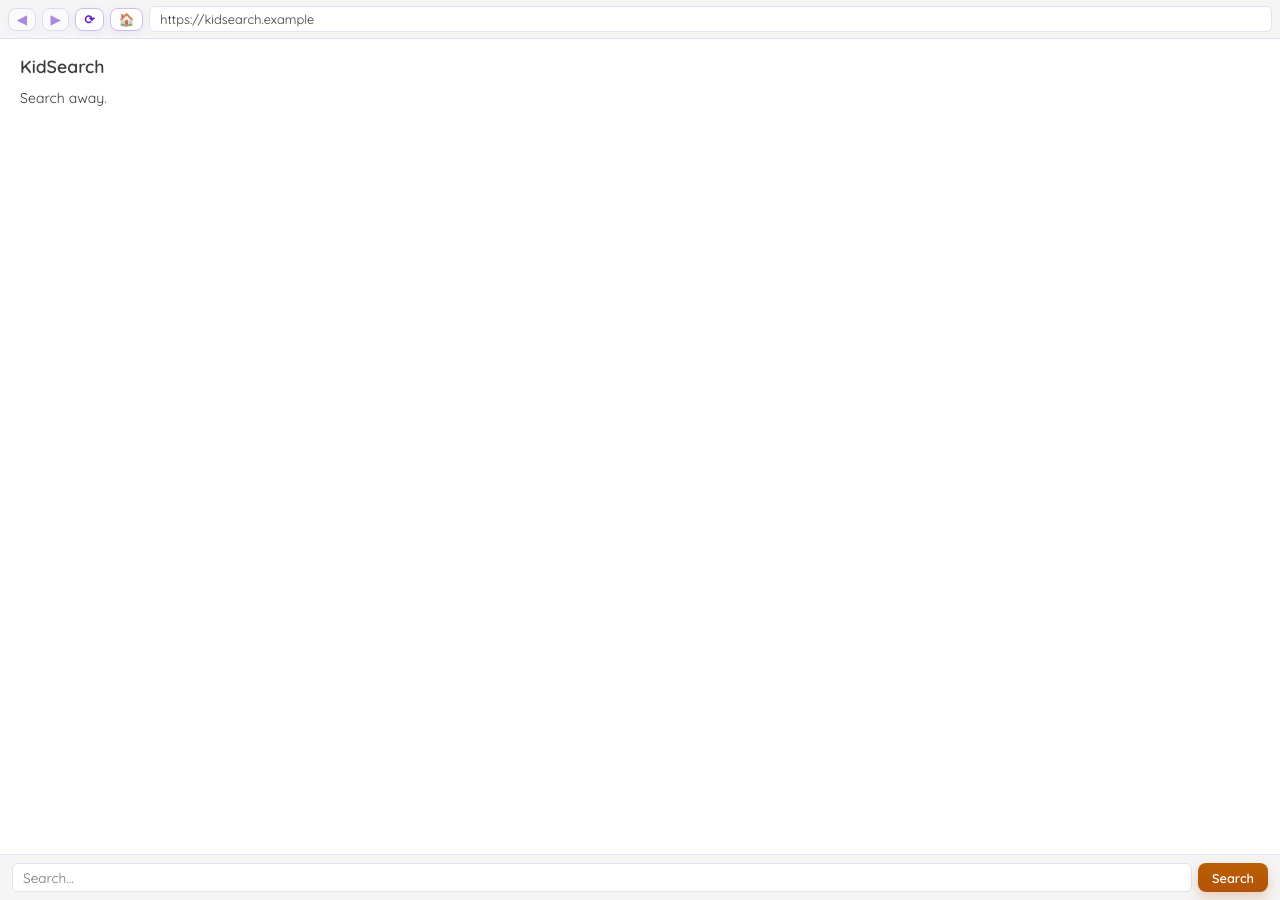
Test: BrowserApp › submitting a search records the query and shows ranked results
This screenshot has width=1280, height=900.
Type "whale" into the search field named "Search the web" at (602, 878), box [12,863,1192,892]
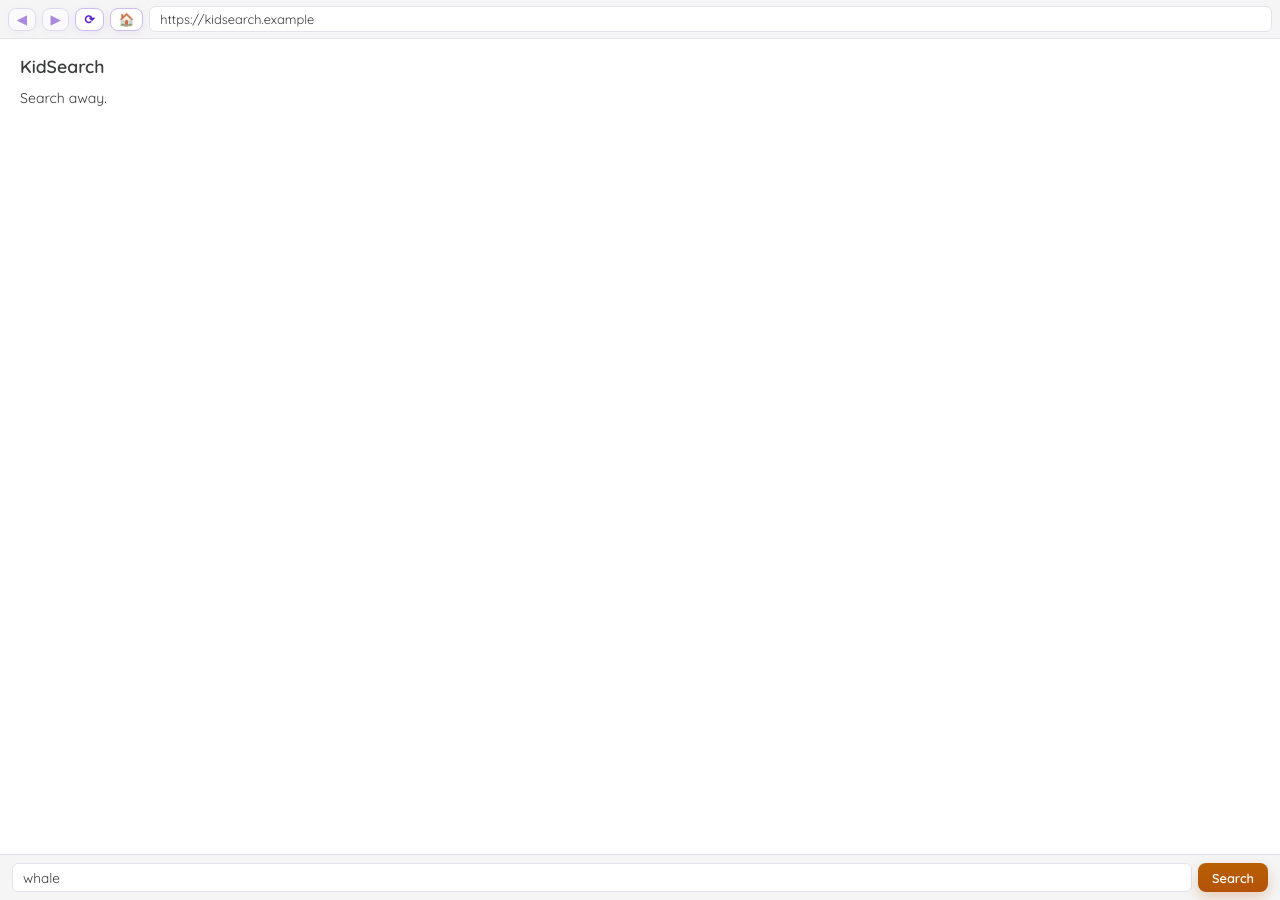
Submit the form named "Search the web", box [0,854,1279,899]
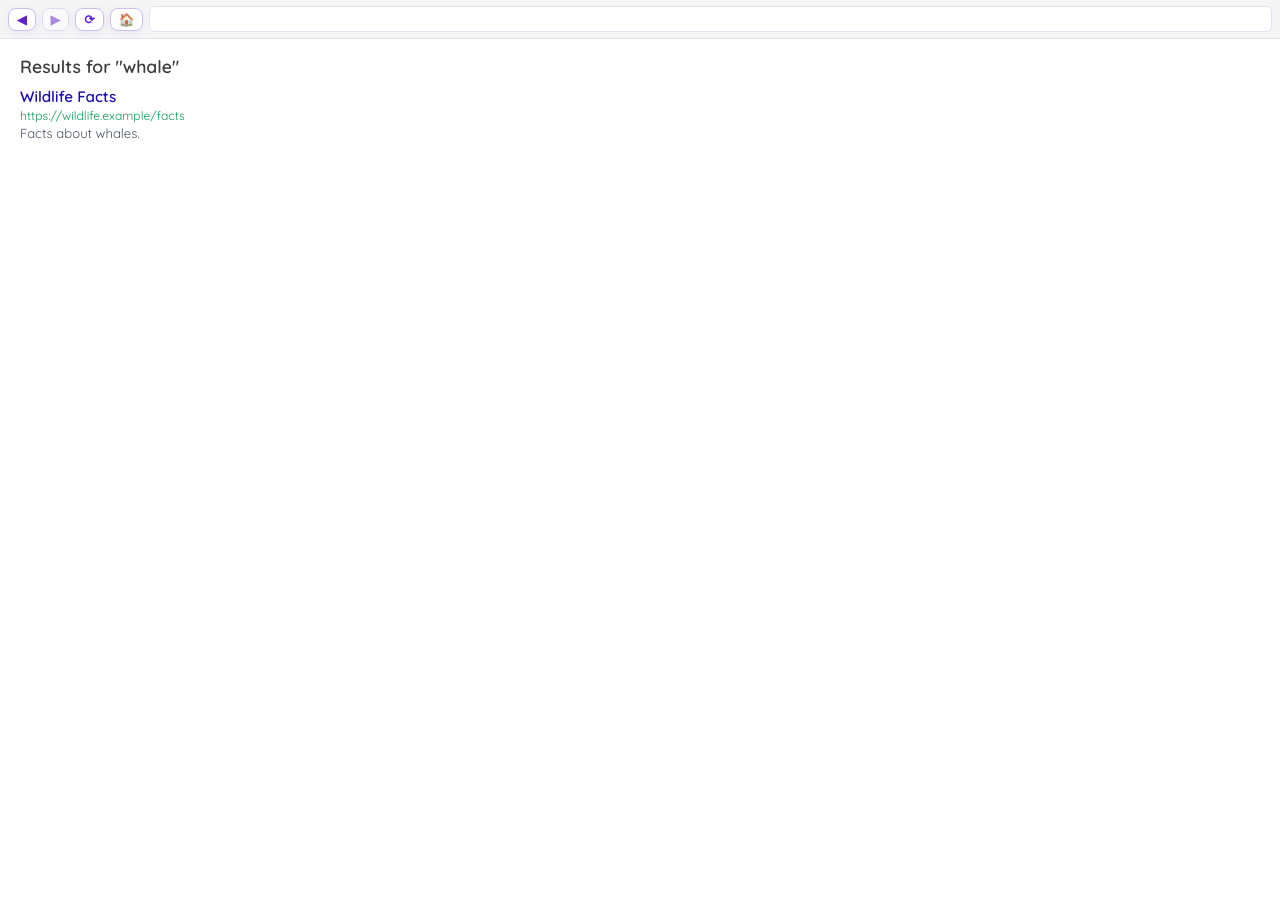
Now the button "Wildlife Facts" is shown, box [20,87,1260,106]
